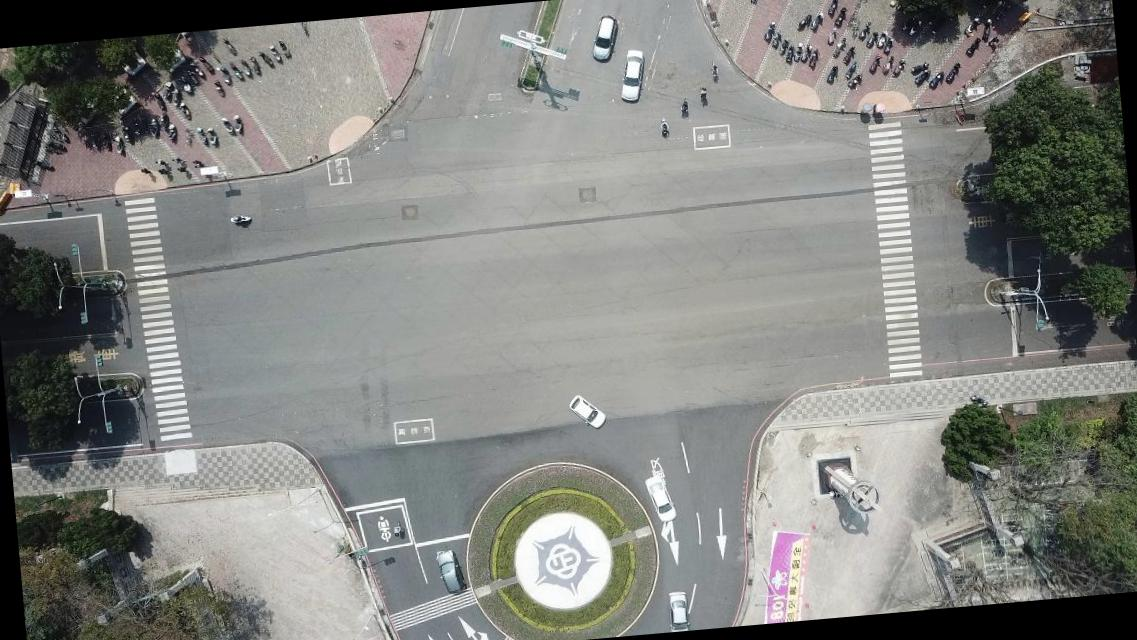vehicle: (641, 472, 680, 524), (614, 48, 648, 104), (564, 392, 609, 432), (432, 547, 466, 597), (586, 14, 620, 62), (663, 590, 689, 632)
